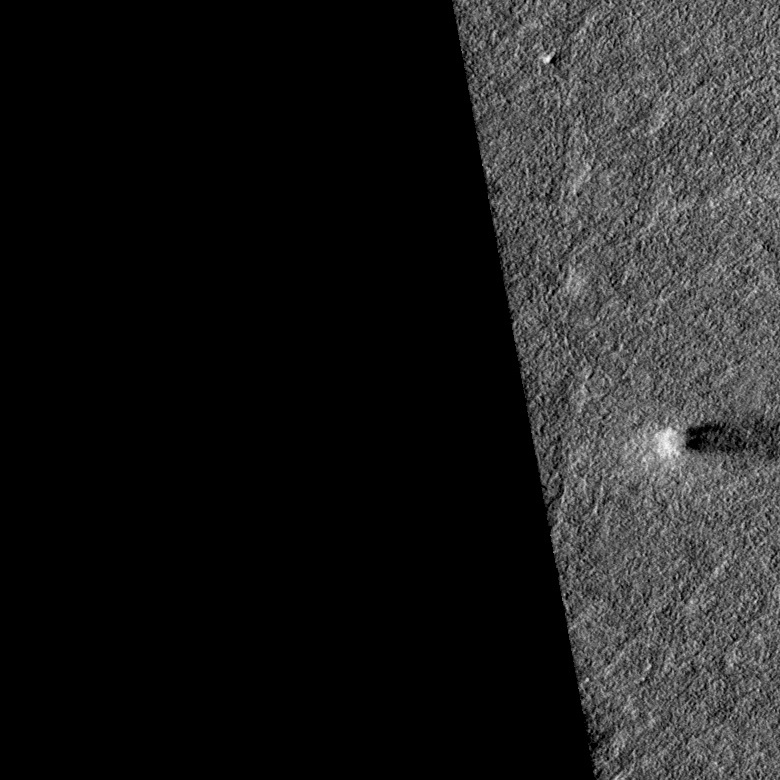dust_devil: (651, 410, 780, 461)
